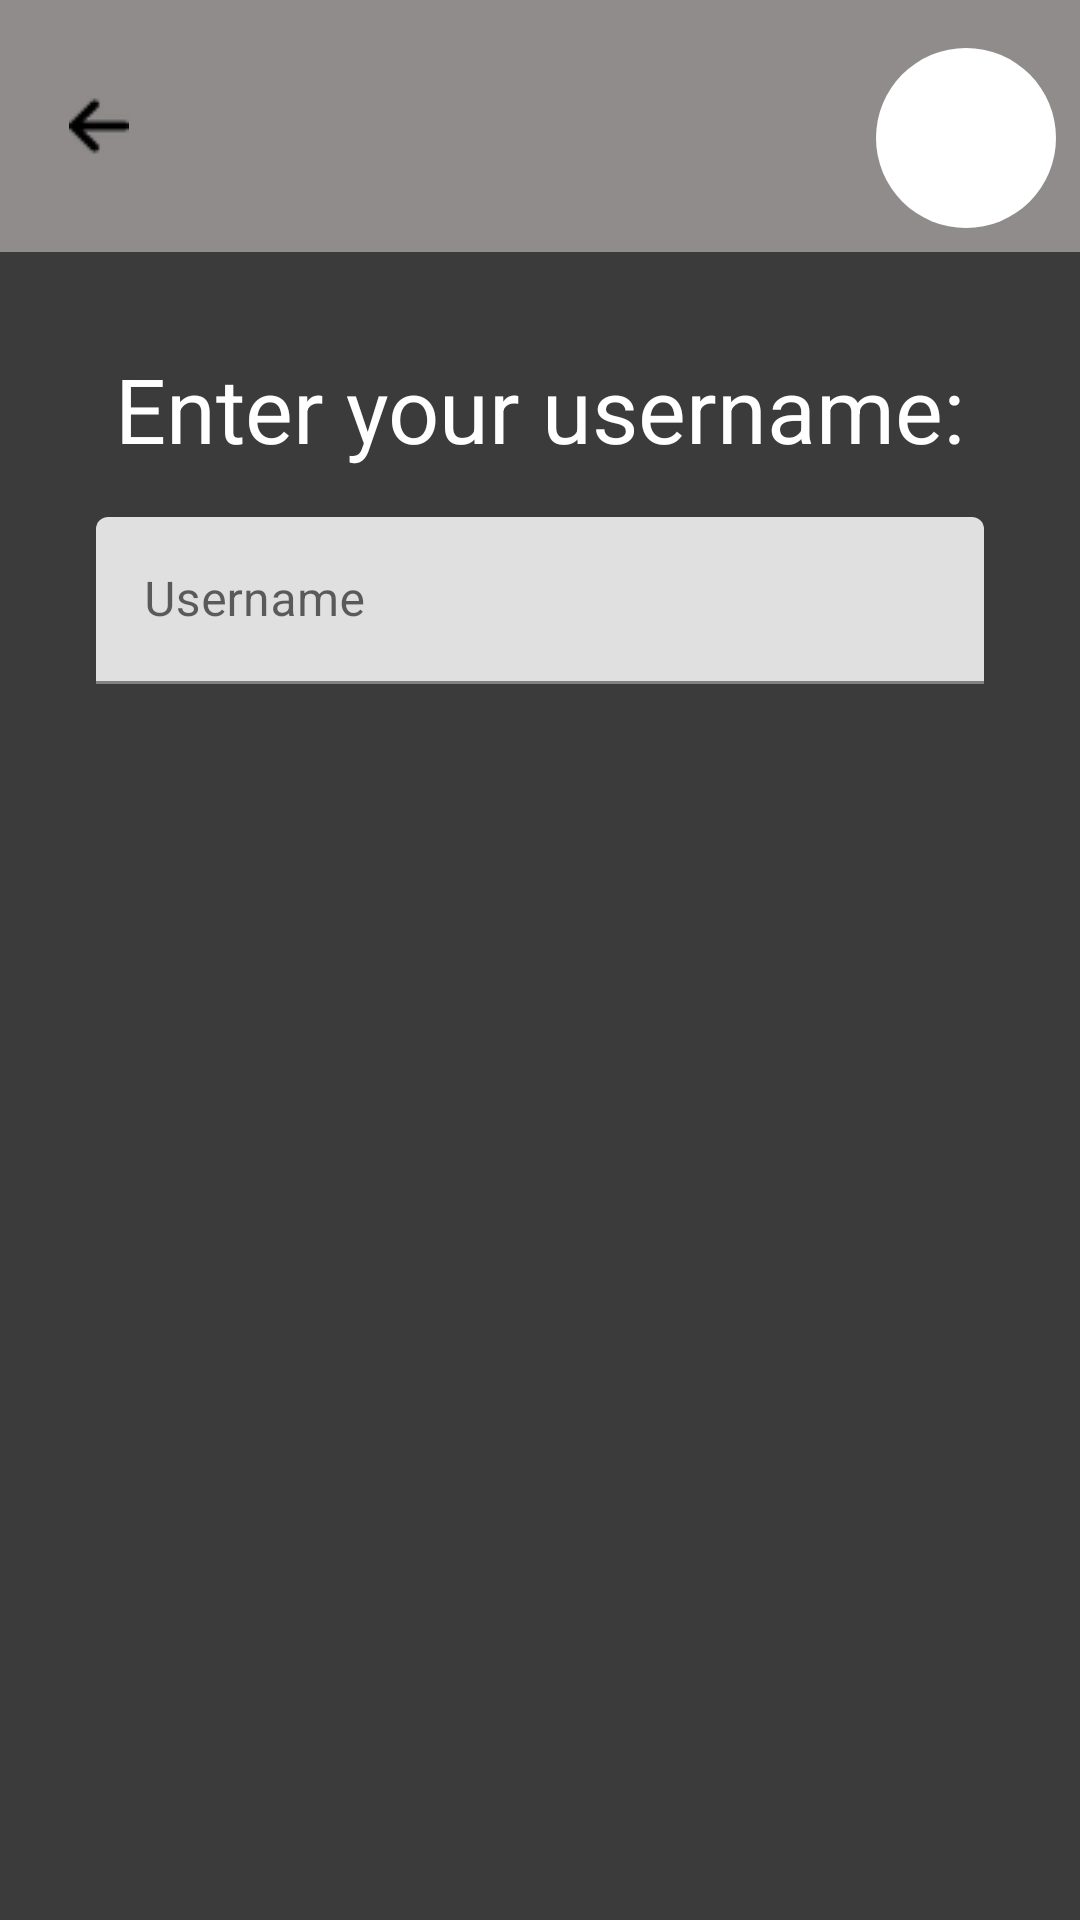

Screen size 1080 x 1920. Icon name, then its box in pixels as (x1, y1, x2, y2):
Back: (69, 99, 129, 153)
